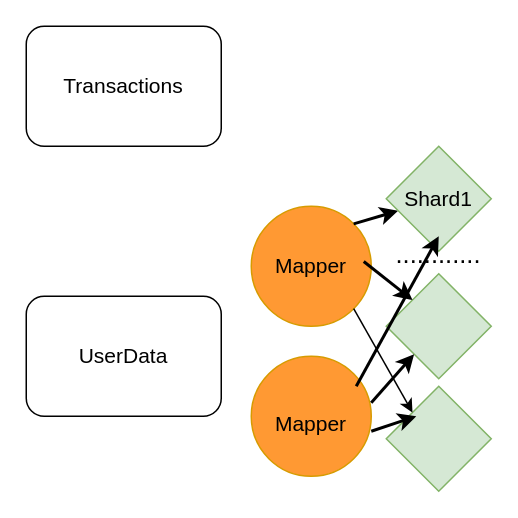
Image size: 518x518. Some labels were removed from this diagram. Each missing label, with the box of its shape:
Shard10: (385, 385, 491, 491)
Shard9: (385, 272, 491, 379)
